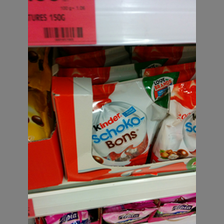chocolate: (78, 73, 163, 167), (151, 78, 197, 163)
